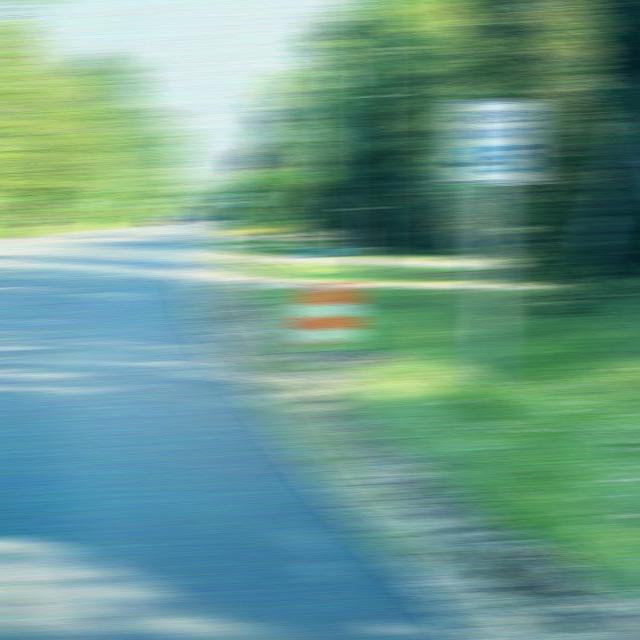speedLimit45: (447, 96, 542, 188)
